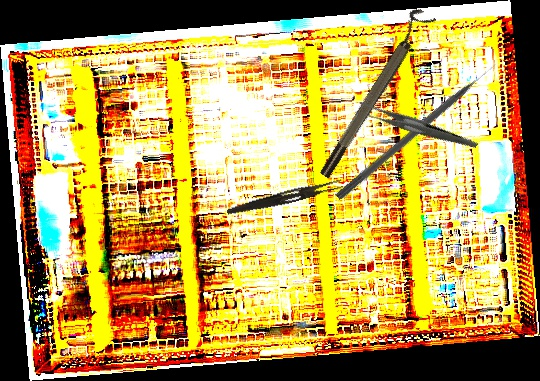Dressing Forceps: (353, 73, 479, 182), (225, 175, 344, 221)
Fixation Ring: (309, 5, 437, 181)
Pusher: (334, 60, 501, 203)
